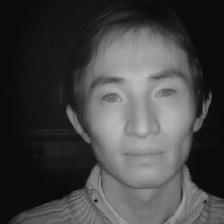normal: (65, 4, 214, 189)
